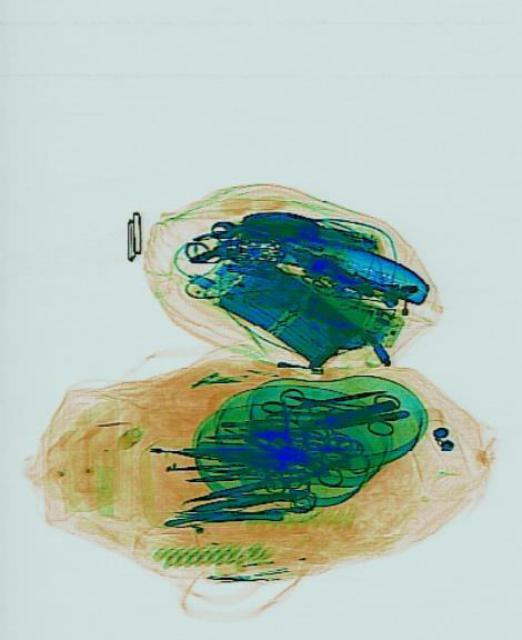Scissors: (277, 374, 398, 438), (258, 378, 384, 412)
